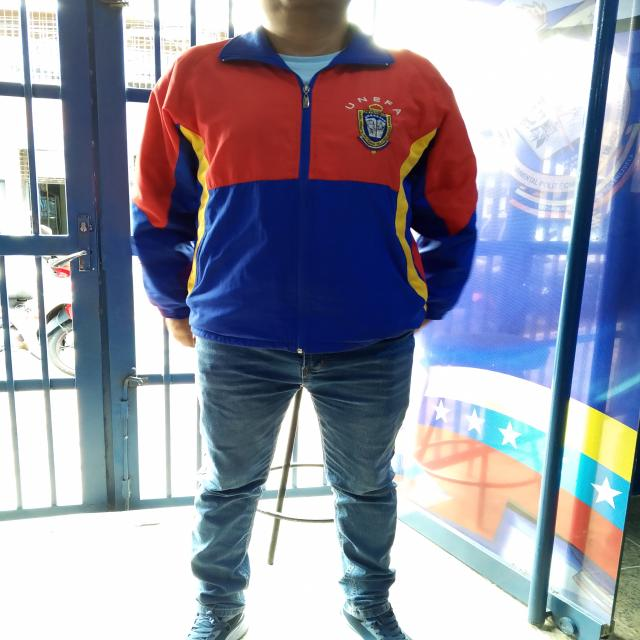chaqueta_unefa: (132, 21, 480, 353)
